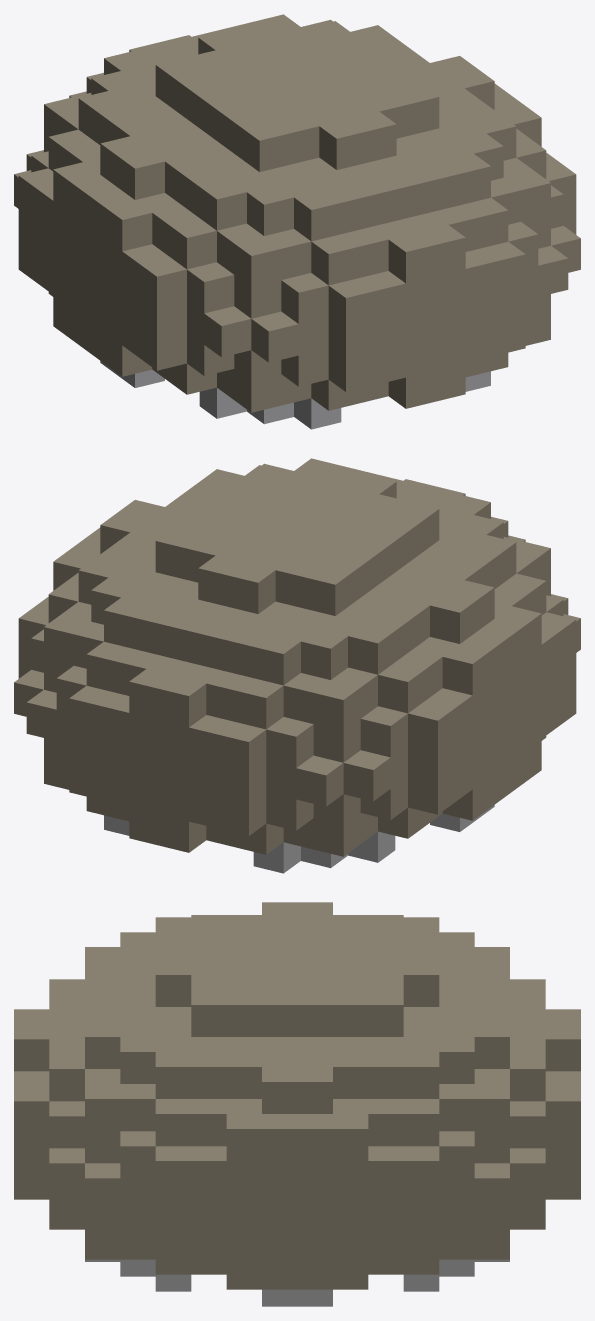
The model's file is cloth_uncommon_shoulder_L.glb.
3 renders of one model, top to bottom at view 1: azimuth 30°, elevation 25°; view 2: azimuth 150°, elevation 25°; view 3: azimuth 270°, elevation 25°, orthographic. The views are drawn at different scales.
Visible parts, largest first — view 1: cloth_uncommon_shoulder_L; view 2: cloth_uncommon_shoulder_L; view 3: cloth_uncommon_shoulder_L.
Part boxes in pixels (x1,y1,x2,y2): cloth_uncommon_shoulder_L: (14,14,580,429); cloth_uncommon_shoulder_L: (14,458,580,873); cloth_uncommon_shoulder_L: (14,902,580,1306).
Bounding box in the file's own units: 0.168 × 0.096 × 0.192.
